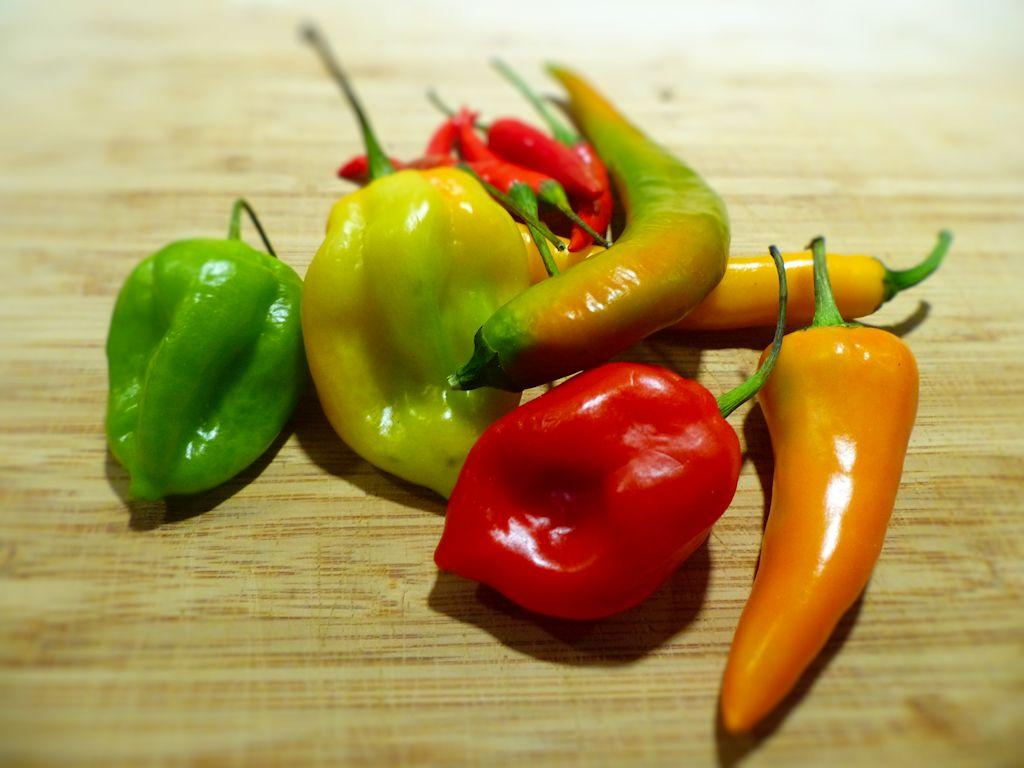chilli pepper: (432, 247, 787, 622), (296, 21, 538, 500), (716, 230, 926, 738), (444, 60, 731, 392), (103, 196, 306, 502), (424, 88, 609, 277), (667, 227, 953, 334), (485, 115, 613, 249)
